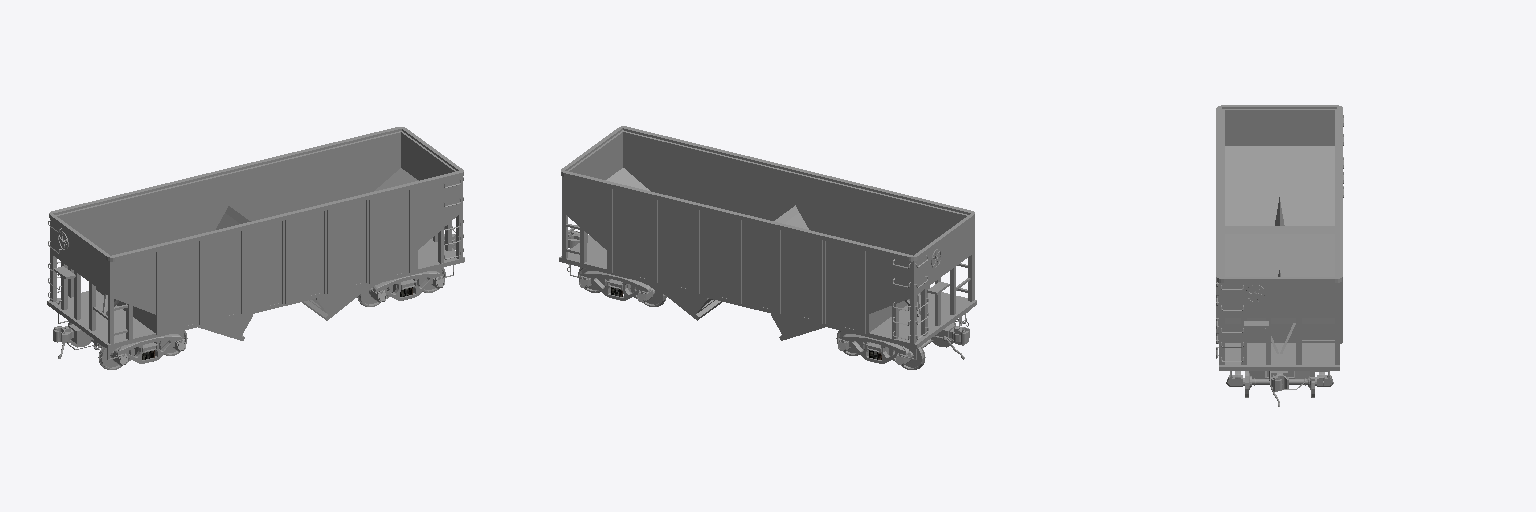
3 views of the same model, side by side, from view 1: azimuth 30°, elevation 25°; view 2: azimuth 150°, elevation 25°; view 3: azimuth 270°, elevation 25° (orthographic).
Visible parts, largest first — view 1: SHELL_Cube.003, FRAME_Cube.006, BOGEY_FRONT_Cube.028, BOGEY_REAR_Cube.019; view 2: SHELL_Cube.003, FRAME_Cube.006, BOGEY_FRONT_Cube.028, BOGEY_REAR_Cube.019; view 3: SHELL_Cube.003, FRAME_Cube.006, BOGEY_REAR_Cube.019.
Part boxes in pixels (left/top/right/bottom): SHELL_Cube.003: left=48, top=127, right=463, bottom=343; FRAME_Cube.006: left=47, top=238, right=464, bottom=348; BOGEY_FRONT_Cube.028: left=53, top=321, right=185, bottom=365; BOGEY_REAR_Cube.019: left=371, top=234, right=455, bottom=302; SHELL_Cube.003: left=561, top=126, right=974, bottom=343; FRAME_Cube.006: left=559, top=235, right=976, bottom=348; BOGEY_FRONT_Cube.028: left=838, top=321, right=969, bottom=365; BOGEY_REAR_Cube.019: left=568, top=231, right=652, bottom=302; SHELL_Cube.003: left=1216, top=105, right=1343, bottom=364; FRAME_Cube.006: left=1219, top=343, right=1339, bottom=376; BOGEY_REAR_Cube.019: left=1226, top=371, right=1333, bottom=406.
Size of the model in its own units: 10.65 by 3.24 by 2.94.
3 materials, 1 textured.